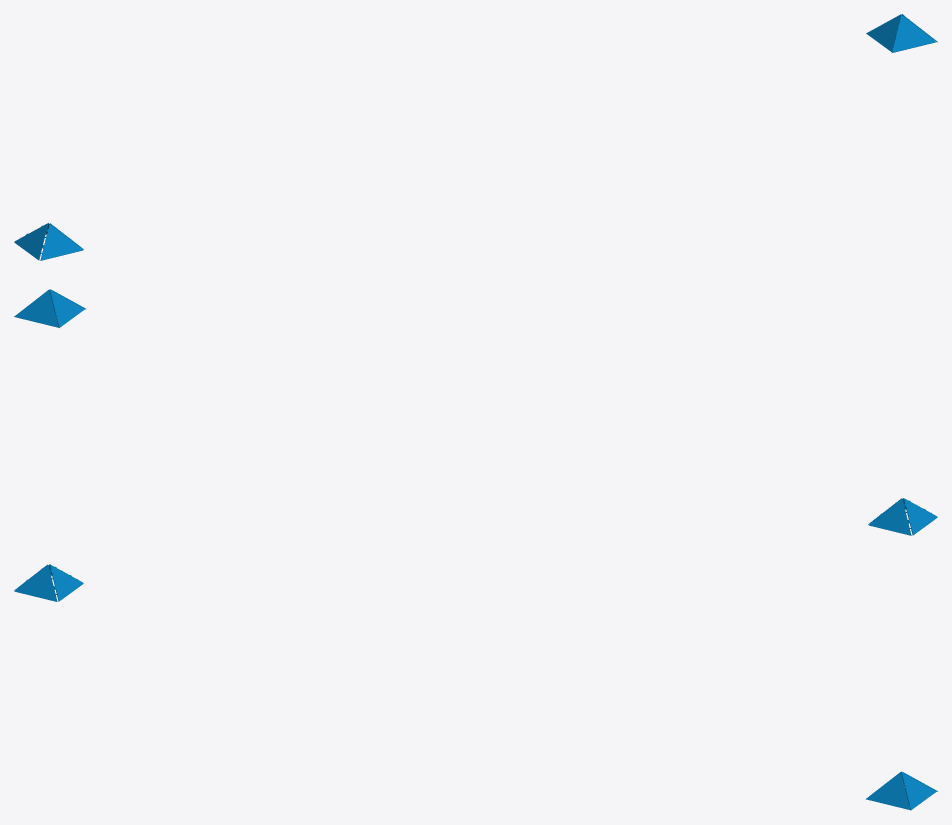
Rendered from Building Model - Excavation and Trench - updated_1kn71nZ$z5OvtVVlfMoOeo-Piso 5_IfcPlate.dae.
3 renders of one model, top to bottom at view 1: azimuth 30°, elevation 25°; view 2: azimuth 150°, elevation 25°; view 3: azimuth 330°, elevation 25°, orthographic.
Size of the model in its own units: 31.66 by 1.63 by 0.8017.
